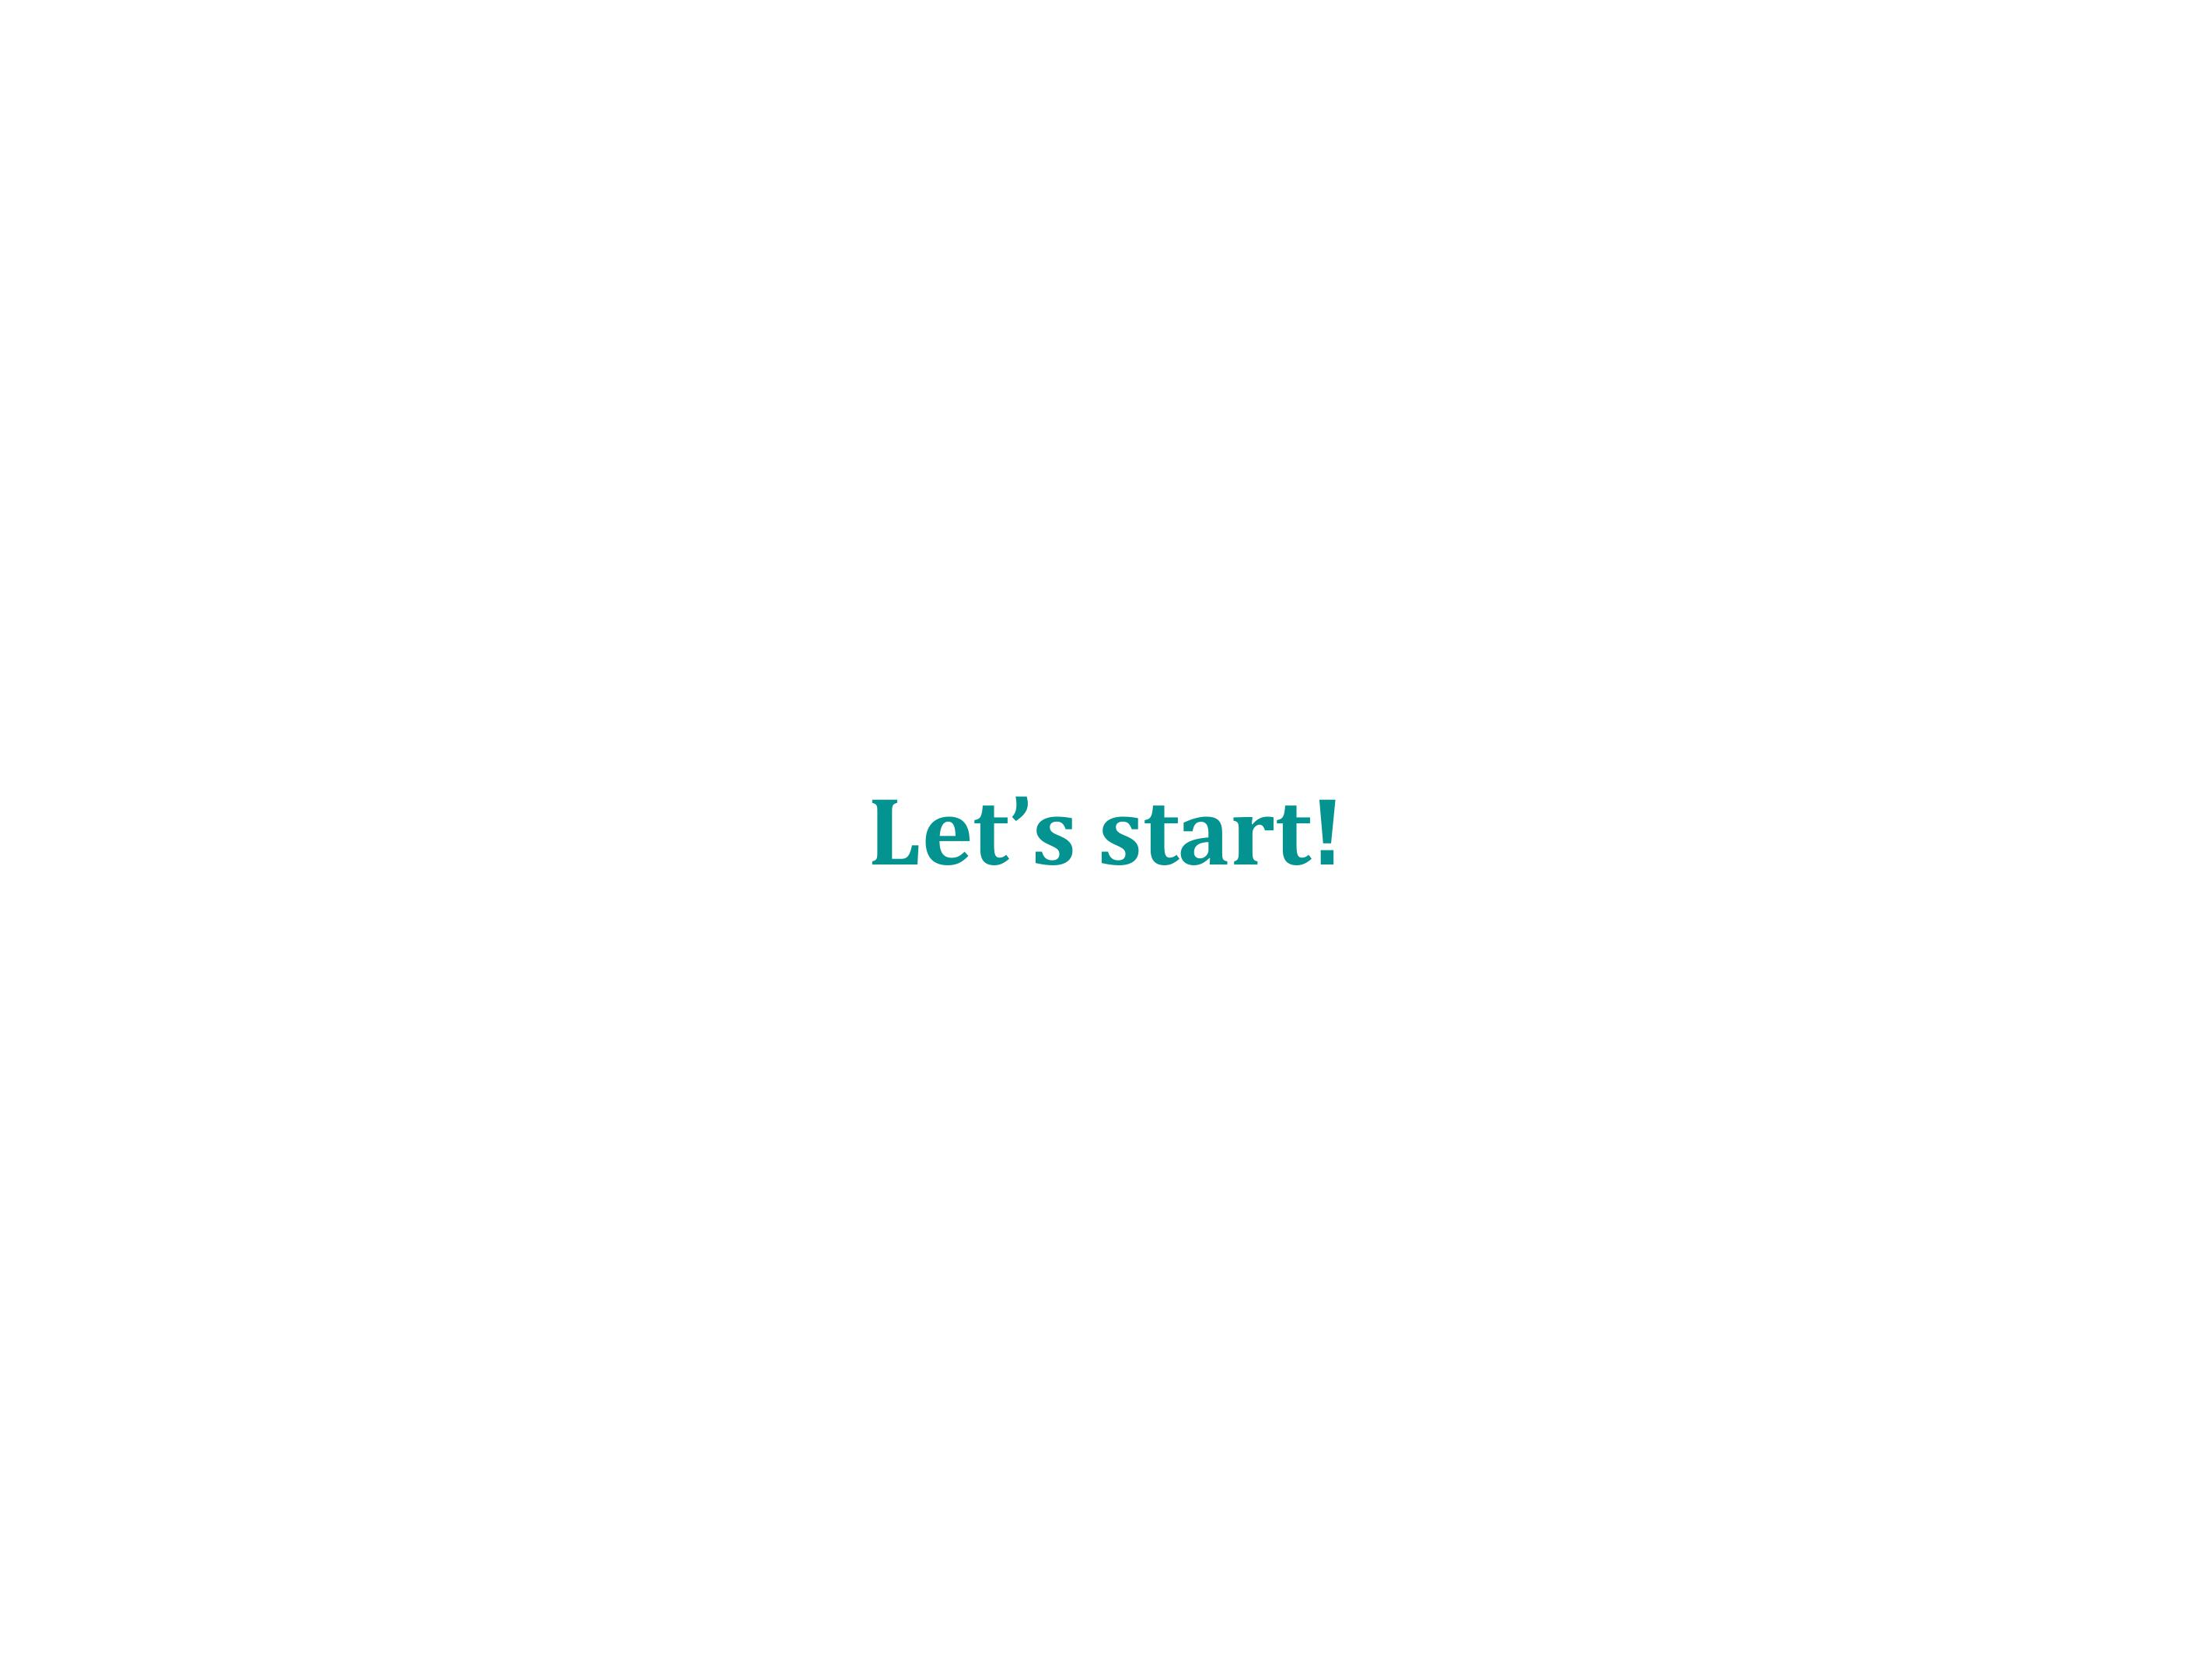Title: (856, 781, 1356, 908)
